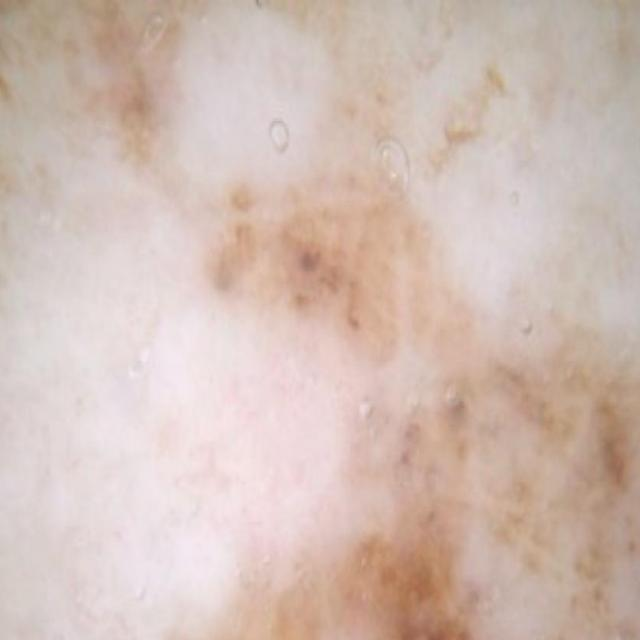Melanoma: (167, 150, 533, 640)
